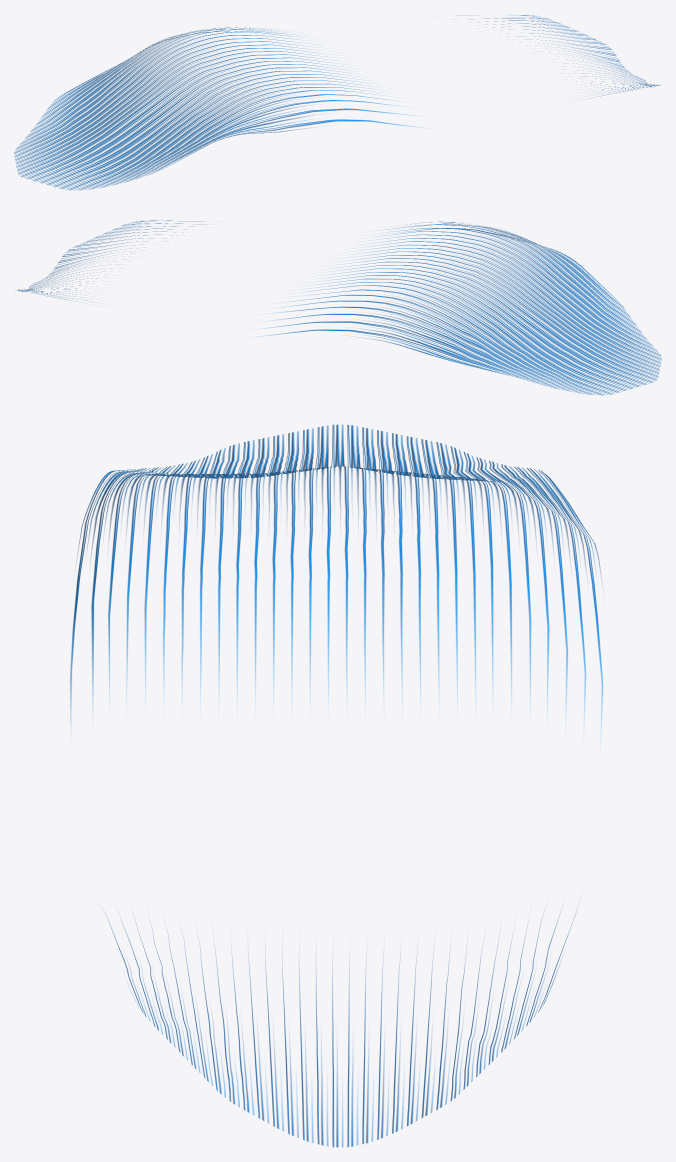
Rendered from wind.glb.
The picture shows the model from 3 angles, top to bottom: view 1: azimuth 30°, elevation 25°; view 2: azimuth 150°, elevation 25°; view 3: azimuth 270°, elevation 25°; orthographic projection. The views are drawn at different scales.
Parts seen in each view (by area): view 1: WIND; view 2: WIND; view 3: WIND.
Boxes of the visible parts, box(x1,y1,x2,y2) form: WIND: box(14, 15, 660, 190); WIND: box(15, 220, 661, 395); WIND: box(70, 424, 602, 1147).
Bounding box in the file's own units: 11.78 × 2.17 × 4.49.
1 material, 1 textured.
